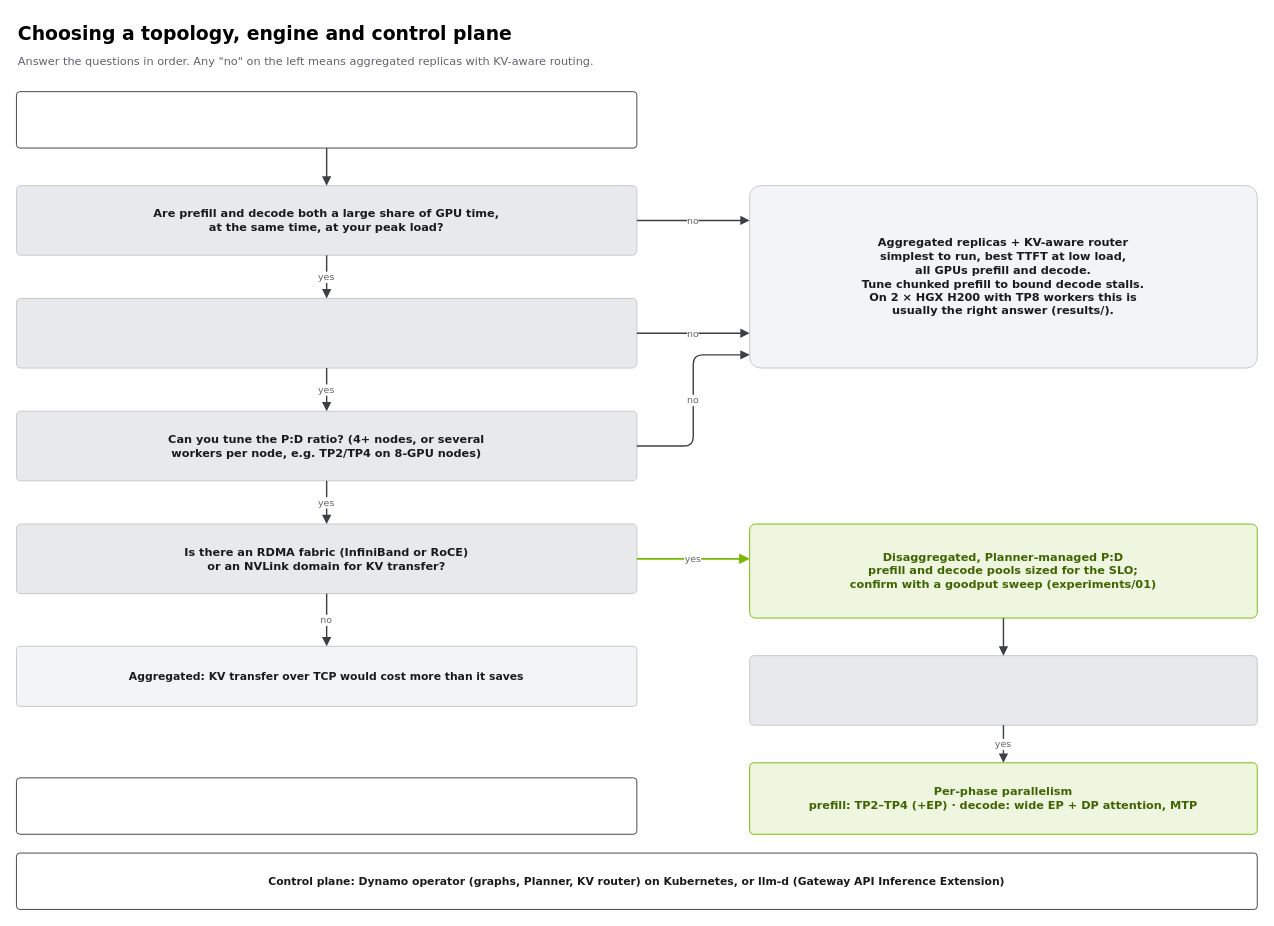
This 1274x926 diagram has some shape labels left out. The shapes that lost their labels are listed below. From the top down, each one's centre as x and y in pixels, then its label:
[326,119]: Workload: ISL and OSL distributions, request rate, p99 TTFT and ITL targets
[326,333]: Is p99 inter-token latency a hard SLO?
[1003,690]: MoE or MLA model (DeepSeek-class, Nemotron Ultra)?
[326,805]: Engine: SGLang · vLLM · TensorRT-LLM, by model support and features
